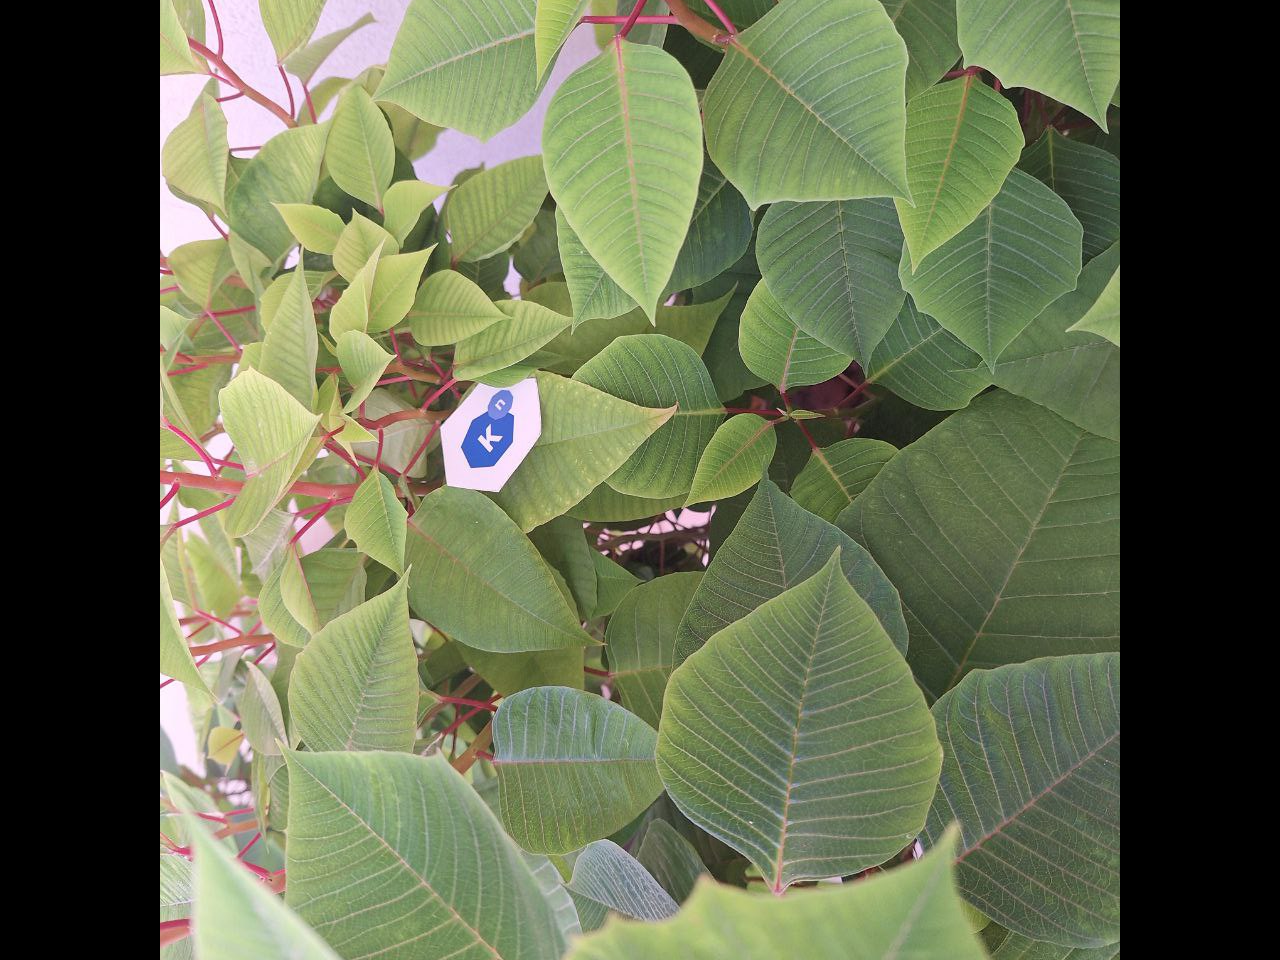knative: (459, 389, 516, 469)
